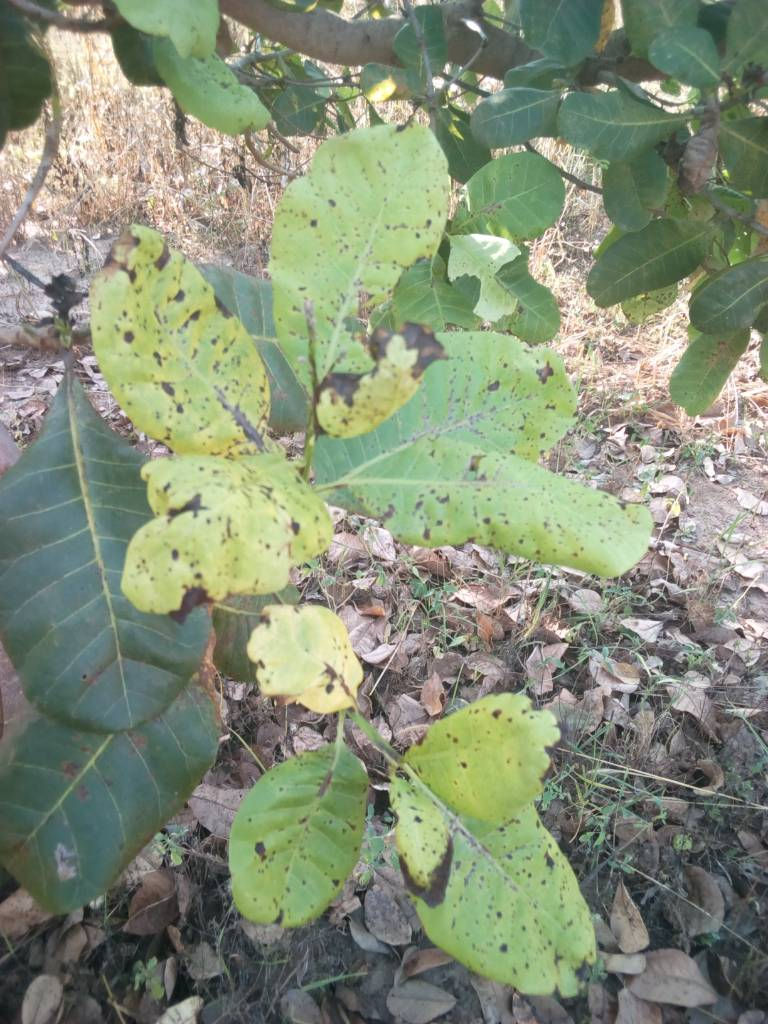Anthracnose: (382, 774, 608, 989), (332, 442, 650, 577), (90, 225, 269, 464), (124, 439, 333, 608), (224, 741, 368, 924), (400, 697, 558, 814)
